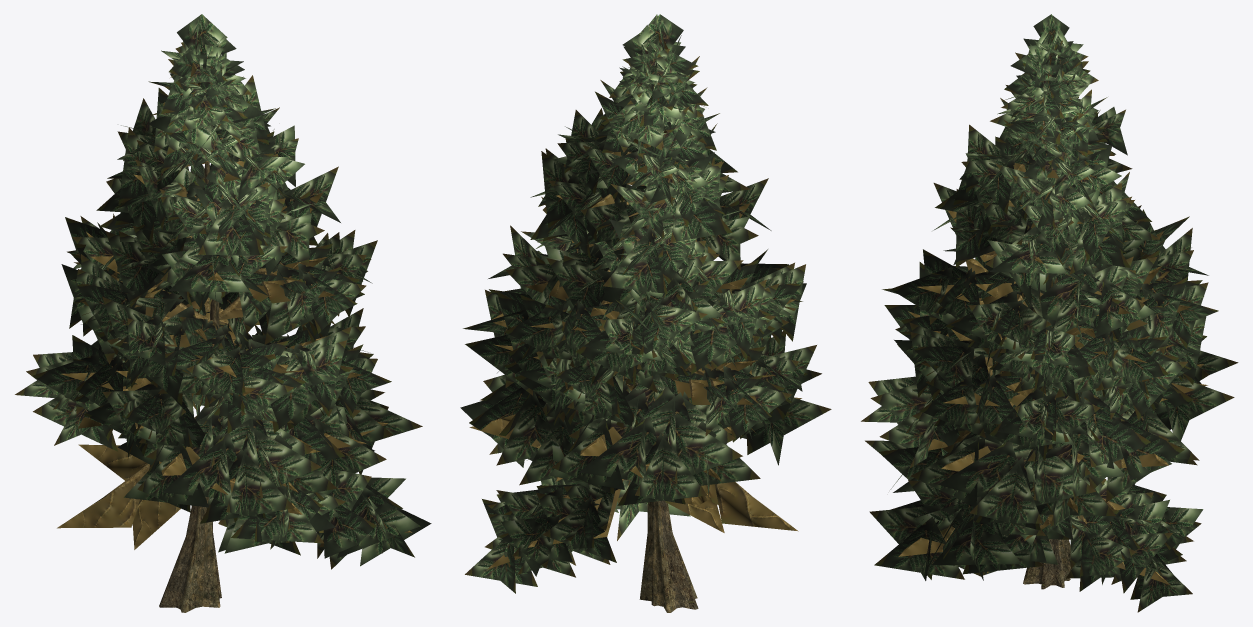
File: PineMed1.fbx
3 views of the same model, side by side, from view 1: azimuth 30°, elevation 25°; view 2: azimuth 150°, elevation 25°; view 3: azimuth 270°, elevation 25° (orthographic). The views are drawn at different scales.
Visible parts, largest first — view 1: PineMed1_LOD0; view 2: PineMed1_LOD0; view 3: PineMed1_LOD0.
Part boxes in pixels (x1,y1,x2,y2): PineMed1_LOD0: [15, 14, 431, 612]; PineMed1_LOD0: [460, 14, 831, 612]; PineMed1_LOD0: [861, 14, 1238, 612].
Size of what is drawn, in the model's own units: 6.63 by 11.36 by 6.86.
